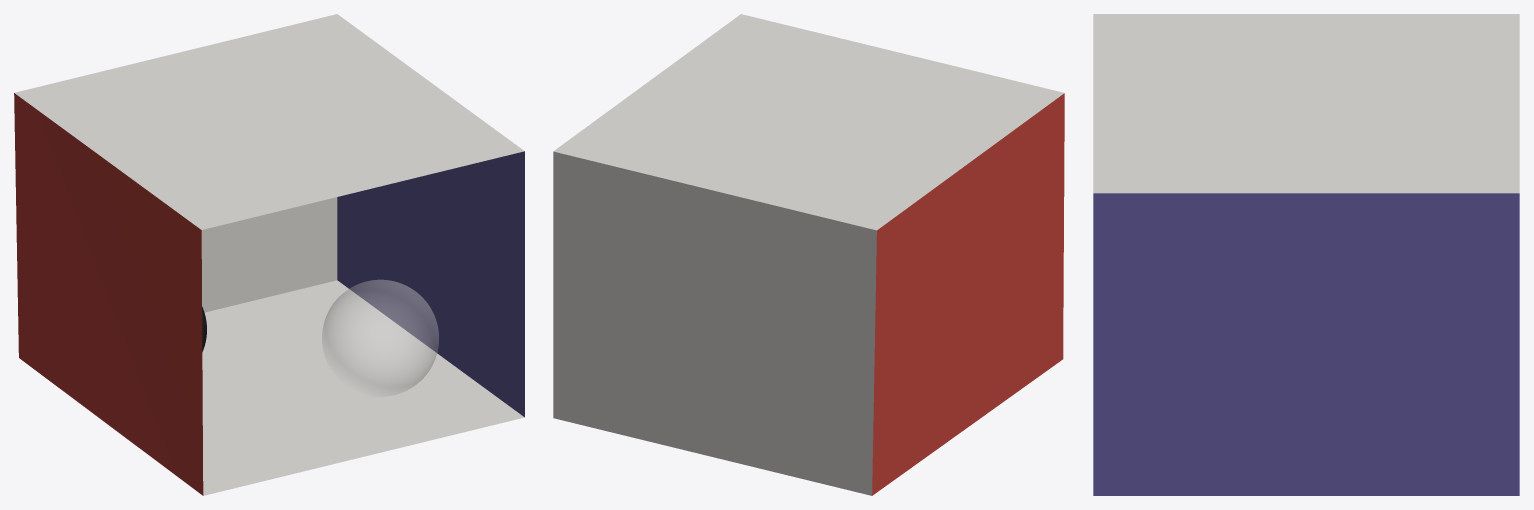
Rendered from CornellBox.glb.
3 views of the same model, side by side, from view 1: azimuth 30°, elevation 25°; view 2: azimuth 150°, elevation 25°; view 3: azimuth 270°, elevation 25° (orthographic). The views are drawn at different scales.
Parts seen in each view (by area): view 1: CornellBox-Sphere; view 2: CornellBox-Sphere; view 3: CornellBox-Sphere.
Boxes of the visible parts, box(x1,y1,x2,y2) form: CornellBox-Sphere: box(14, 14, 524, 495); CornellBox-Sphere: box(553, 14, 1064, 495); CornellBox-Sphere: box(1093, 14, 1519, 495).
Bounding box in the file's own units: 2.02 × 1.59 × 2.03.
